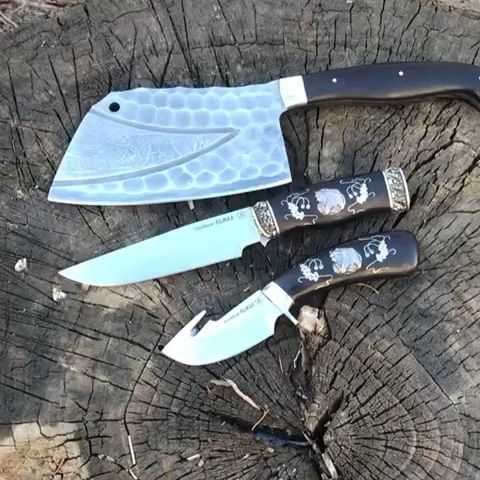knife: (48, 62, 480, 207), (58, 166, 409, 287), (161, 231, 419, 366)
